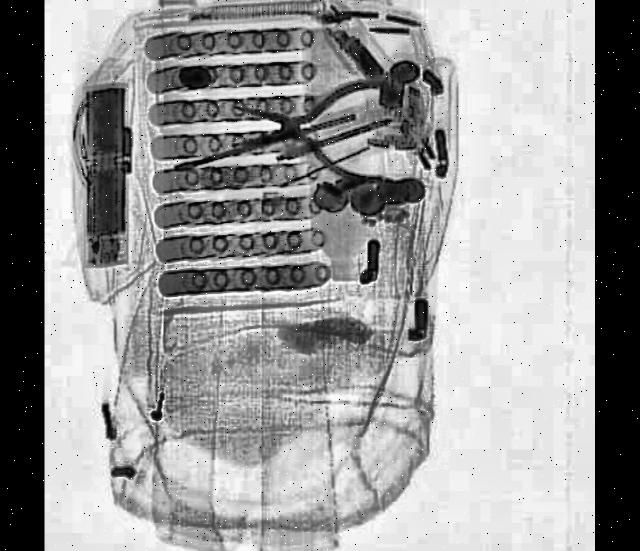Pliers: (225, 78, 386, 187)
